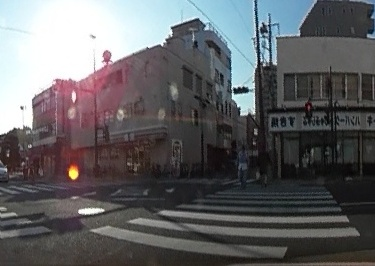person: (256, 143, 271, 186), (236, 143, 248, 186)
